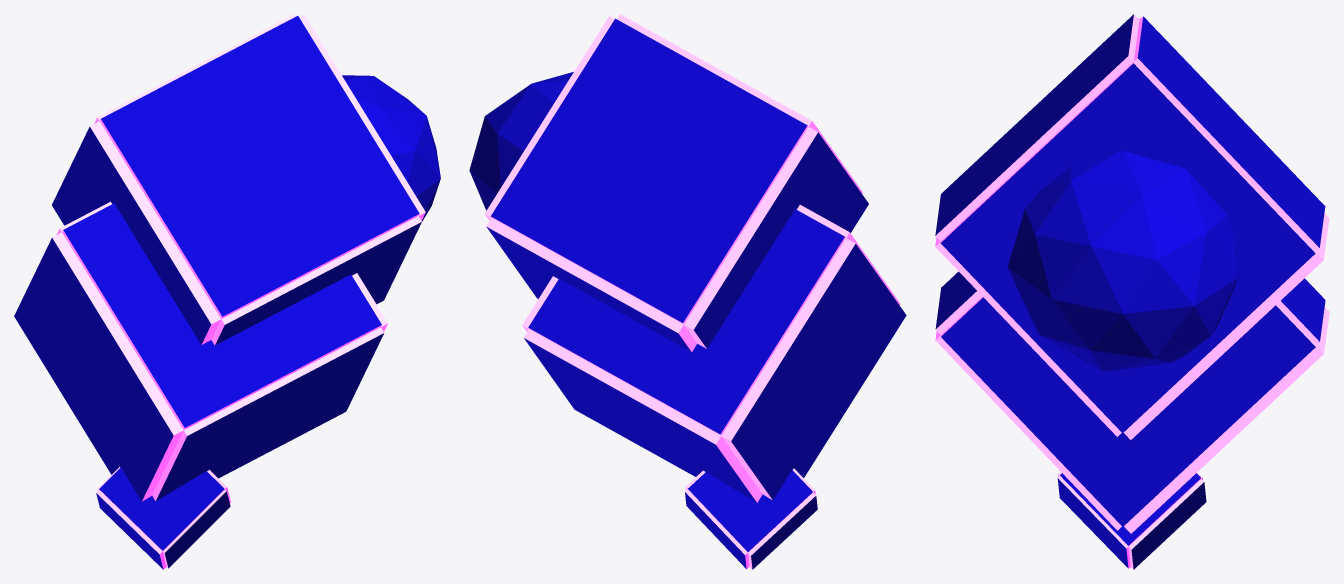
The model's file is finalboss.glb.
3 renders of one model, left to right at view 1: azimuth 30°, elevation 25°; view 2: azimuth 150°, elevation 25°; view 3: azimuth 270°, elevation 25°, orthographic. The views are drawn at different scales.
Parts seen in each view (by area): view 1: Cube, Cube.002, Cube.001, Icosphere.002; view 2: Cube, Cube.002, Cube.001, Icosphere.002; view 3: Cube, Icosphere.002, Cube.002, Cube.001.
Boxes of the visible parts, x1,y1,x2,y2 form: Cube: (52, 14, 425, 345); Cube.002: (14, 201, 387, 501); Cube.001: (96, 467, 230, 569); Icosphere.002: (342, 75, 440, 221); Cube: (484, 14, 868, 351); Cube.002: (522, 204, 906, 502); Cube.001: (685, 468, 817, 569); Icosphere.002: (469, 72, 573, 210); Cube: (935, 14, 1329, 439); Icosphere.002: (1008, 151, 1238, 371); Cube.002: (935, 271, 1329, 533); Cube.001: (1057, 471, 1206, 569).
Size of what is drawn, in the model's own units: 3.29 by 4.36 by 2.67.
